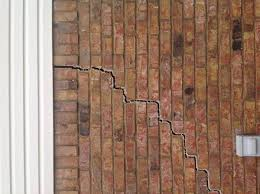stairstep_crack: (51, 63, 220, 193)
